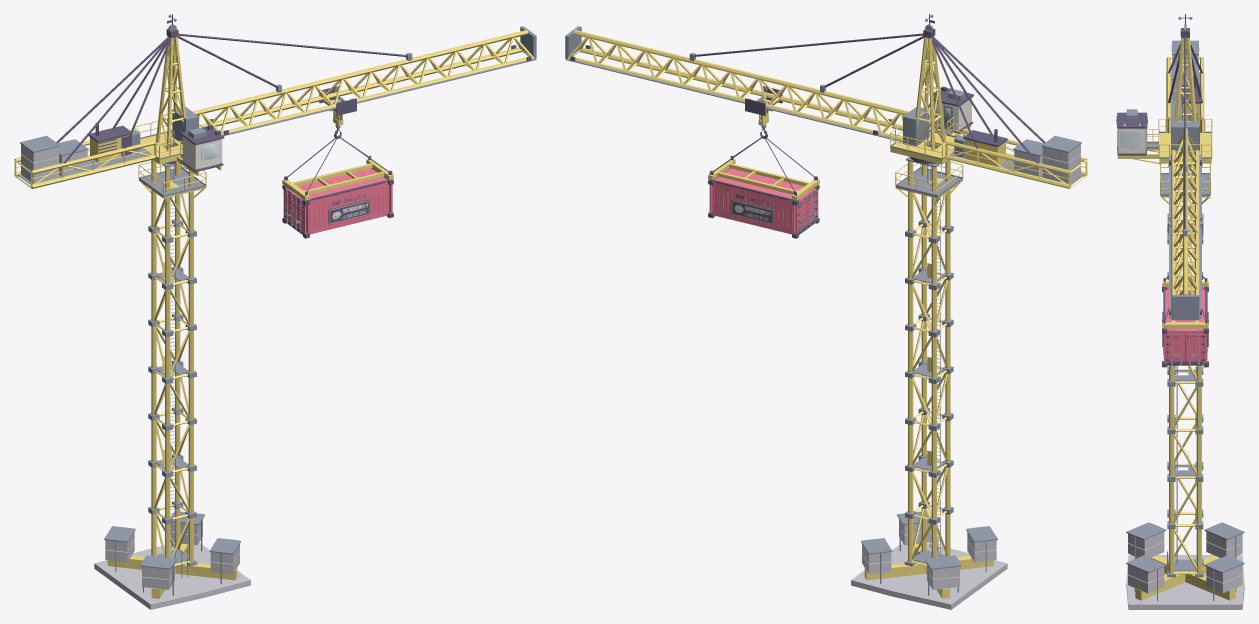
The model's file is crane.glb.
3 renders of one model, left to right at view 1: azimuth 30°, elevation 25°; view 2: azimuth 150°, elevation 25°; view 3: azimuth 270°, elevation 25°, orthographic.
Visible parts, largest first — view 1: crane_mastChords, crane_jibChords, crane_mastBracing, crane_pad, crane_box, crane_jibLattice, crane_pendants, crane, crane_splicePlates, crane_towerHead, crane_counterJib, crane_decks (+5 smaller); view 2: crane_mastChords, crane_jibChords, crane_mastBracing, crane_pad, crane_box, crane_jibLattice, crane_pendants, crane, crane_counterJib, crane_towerHead, crane_splicePlates, crane_decks (+5 smaller); view 3: crane, crane_pad, crane_mastChords, crane_jibLattice, crane_jibChords, crane_mastBracing, crane_decks, crane_towerHead, crane_pendants, crane_jibRails, crane_splicePlates, crane_doorsF_load_20 (+23 smaller).
Part boxes in pixels (x1,y1,x2,y2): crane_mastChords: (151, 159, 193, 562); crane_jibChords: (192, 30, 534, 134); crane_mastBracing: (154, 184, 189, 566); crane_pad: (94, 542, 250, 609); crane_box: (288, 168, 389, 234); crane_jibLattice: (197, 37, 532, 131); crane_pendants: (56, 33, 407, 163); crane: (105, 519, 239, 592); crane_splicePlates: (148, 220, 196, 524); crane_towerHead: (155, 36, 186, 150); crane_counterJib: (14, 128, 155, 188); crane_decks: (139, 168, 206, 563); crane_mastChords: (908, 159, 950, 562); crane_jibChords: (568, 30, 909, 141); crane_mastBracing: (912, 180, 947, 566); crane_pad: (851, 542, 1007, 609); crane_box: (712, 168, 813, 234); crane_jibLattice: (569, 37, 904, 132); crane_pendants: (694, 33, 1045, 163); crane: (862, 519, 996, 595); crane_counterJib: (946, 128, 1087, 188); crane_towerHead: (915, 36, 945, 150); crane_splicePlates: (905, 220, 953, 524); crane_decks: (895, 168, 962, 563); crane: (1128, 526, 1242, 600); crane_pad: (1126, 555, 1244, 609); crane_mastChords: (1169, 365, 1201, 573); crane_jibLattice: (1173, 136, 1197, 294); crane_jibChords: (1171, 128, 1199, 317); crane_mastBracing: (1173, 198, 1197, 574); crane_decks: (1161, 174, 1209, 571); crane_towerHead: (1174, 38, 1196, 121); crane_pendants: (1168, 36, 1202, 228); crane_jibRails: (1169, 154, 1201, 318); crane_splicePlates: (1167, 224, 1203, 529); crane_doorsF_load_20: (1167, 334, 1202, 361).
Size of the model in its own units: 42.92 by 45.5 by 9.26.
